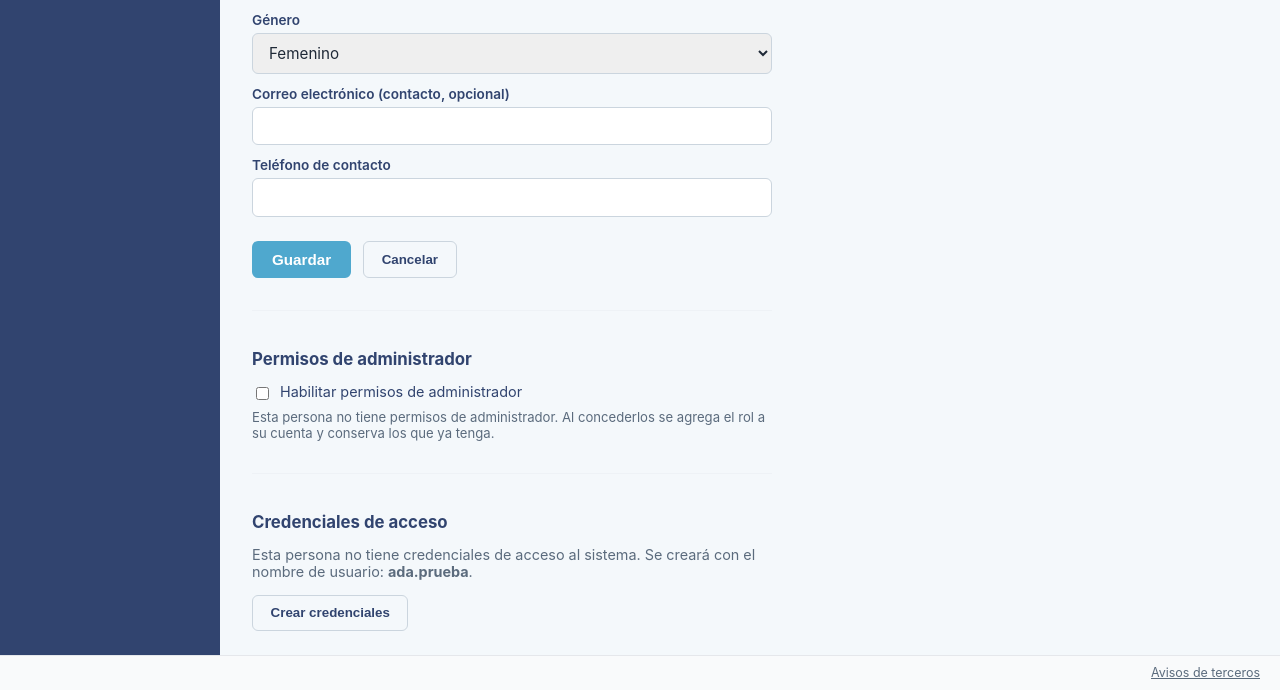
Test case: conceder › sin cuenta, avisa que TODAVÍA no hay acceso
(page scrolled)
Click the checkbox labelled "Habilitar permisos de administrador" at (262, 393), box [256, 386, 269, 400]
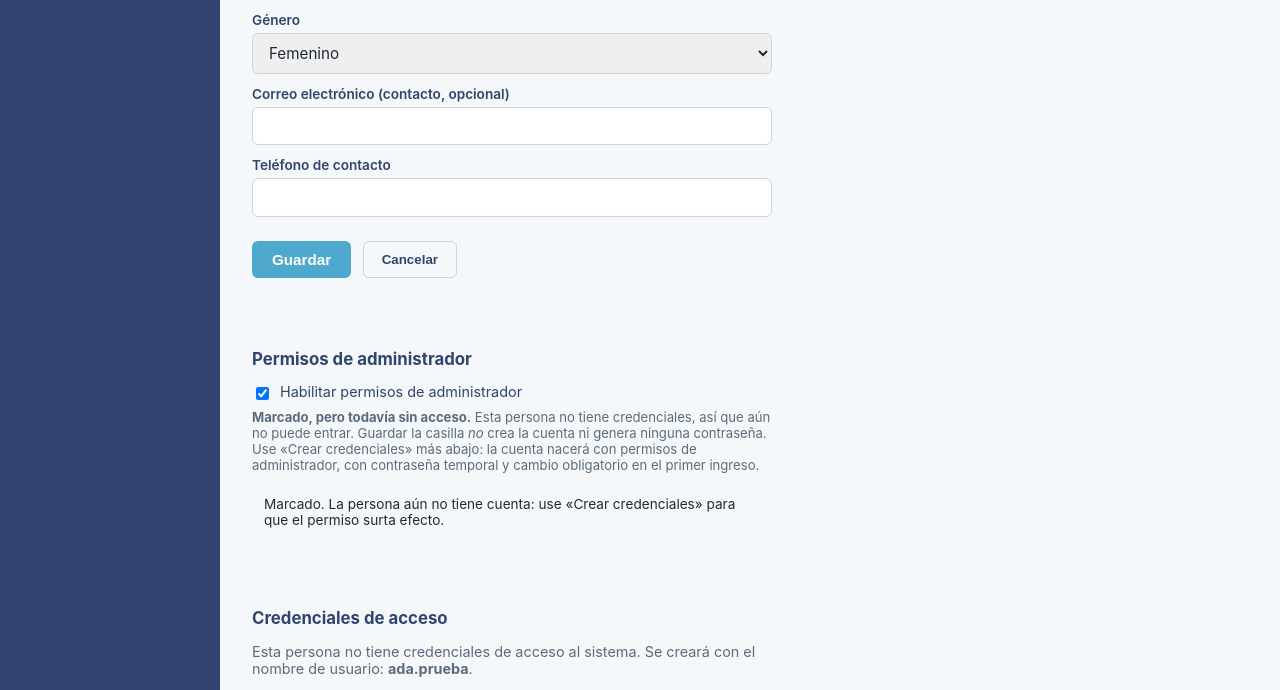
Expected: the text "aún no puede entrar" is shown, [252, 409, 770, 441]
Expected: the text "La persona aún no tiene cuenta" is shown, [264, 496, 735, 528]
